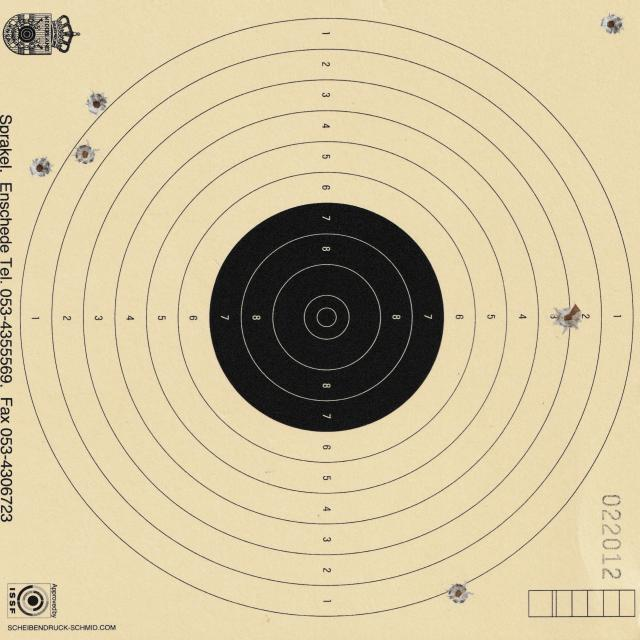0: (598, 10, 625, 36), (84, 91, 109, 116), (28, 156, 54, 178)
1: (444, 579, 474, 604), (70, 140, 100, 165)
3: (550, 303, 584, 335)
Target: (19, 17, 636, 621)
black_contour: (208, 202, 444, 433)
